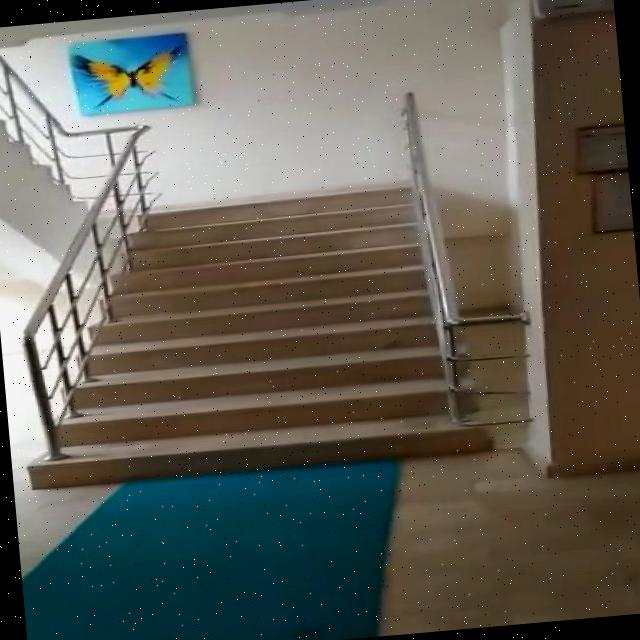stairs: (6, 175, 523, 490)
